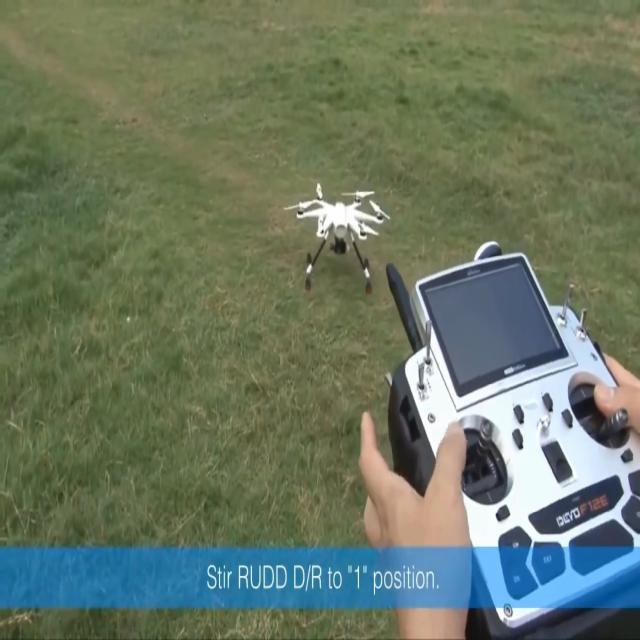drone: (284, 181, 391, 296)
